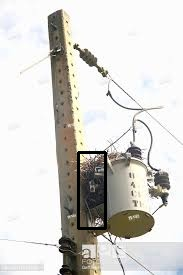bird-nest: (78, 152, 105, 228)
